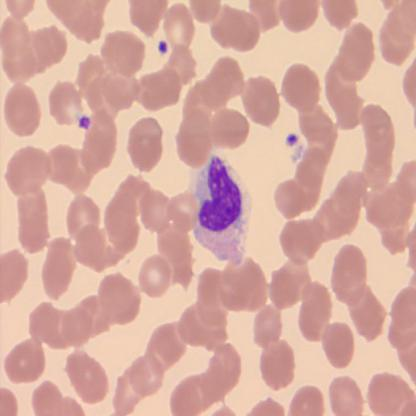Metamyelocyte: (190, 149, 256, 265)
